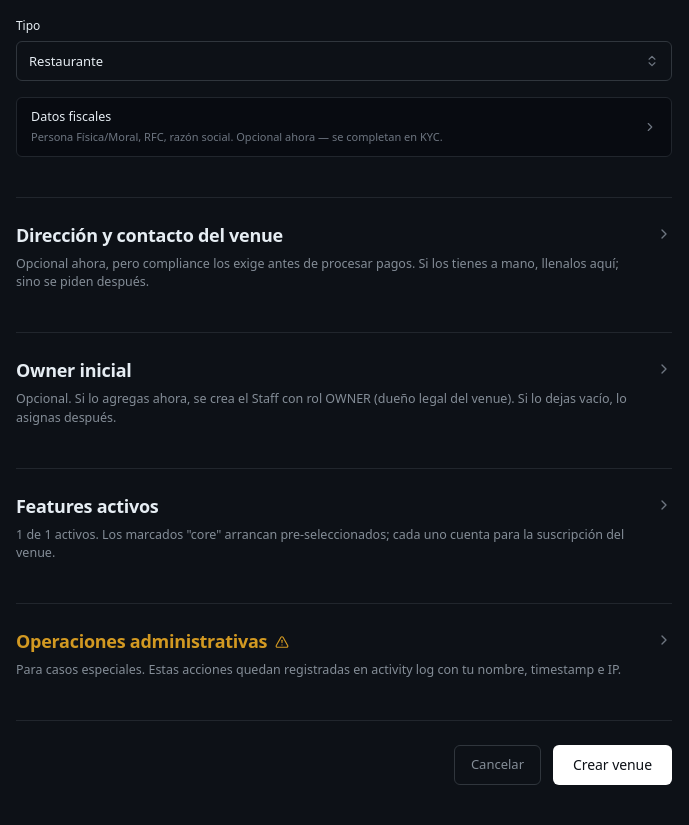
Test case: NewVenuePage › valida que sin nombre no se puede crear el venue
(page scrolled)
Note: Click directo en "Crear venue" sin haber llenado el nombre
Click the button "Crear venue" at (612, 765), box x1=553 y1=745 x2=672 y2=785
(page scrolled)
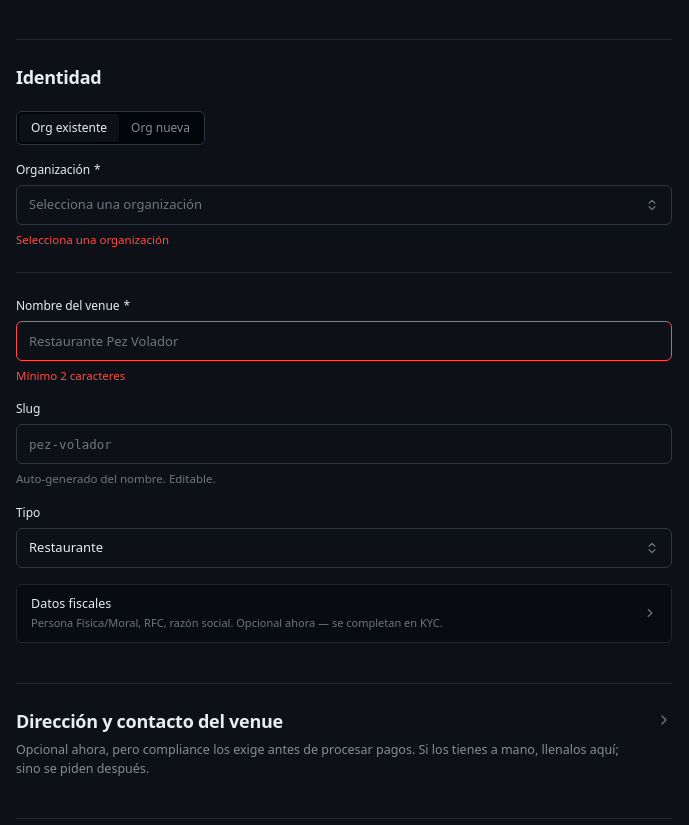
Expected: the text "Mínimo 2 caracteres" is shown, x1=16 y1=368 x2=125 y2=383
